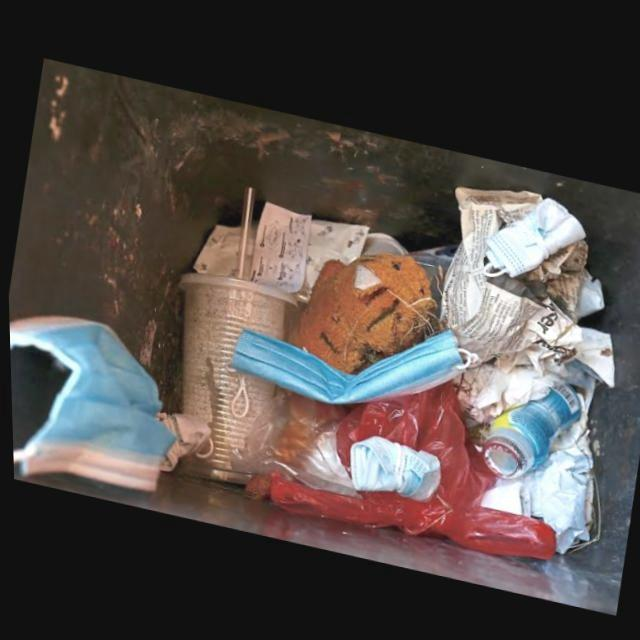paper: (437, 184, 611, 381)
plastic_bag: (267, 378, 554, 555)
plastic_container: (178, 272, 293, 482), (478, 379, 577, 475)
